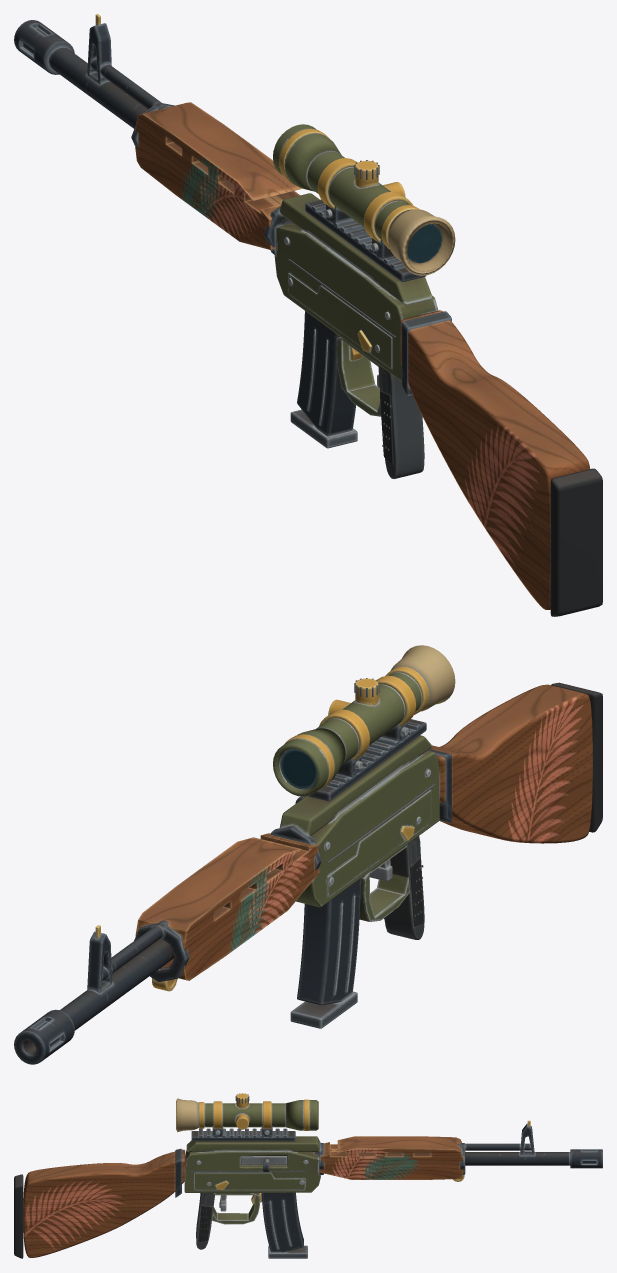
The model's file is dmr.glb.
3 views of the same model, one above another, from view 1: azimuth 30°, elevation 25°; view 2: azimuth 150°, elevation 25°; view 3: azimuth 270°, elevation 25° (orthographic). The views are drawn at different scales.
Parts seen in each view (by area): view 1: dmr_body, dmr_mag_mesh; view 2: dmr_body, dmr_mag_mesh; view 3: dmr_body, dmr_mag_mesh.
Boxes of the visible parts, x1,y1,x2,y2 form: dmr_body: (14,14,602,616); dmr_mag_mesh: (290,311,357,448); dmr_body: (14,645,602,1064); dmr_mag_mesh: (290,878,361,1028); dmr_body: (14,1093,602,1258); dmr_mag_mesh: (261,1192,307,1258).
Size of the model in its own units: 0.084 by 0.3204 by 1.08.
Materials: 1 (1 with a texture image).
